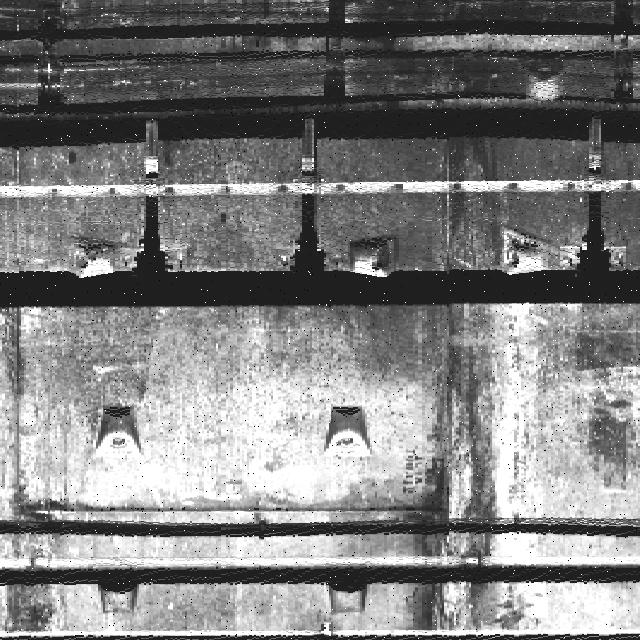leakage: (403, 311, 542, 640)
